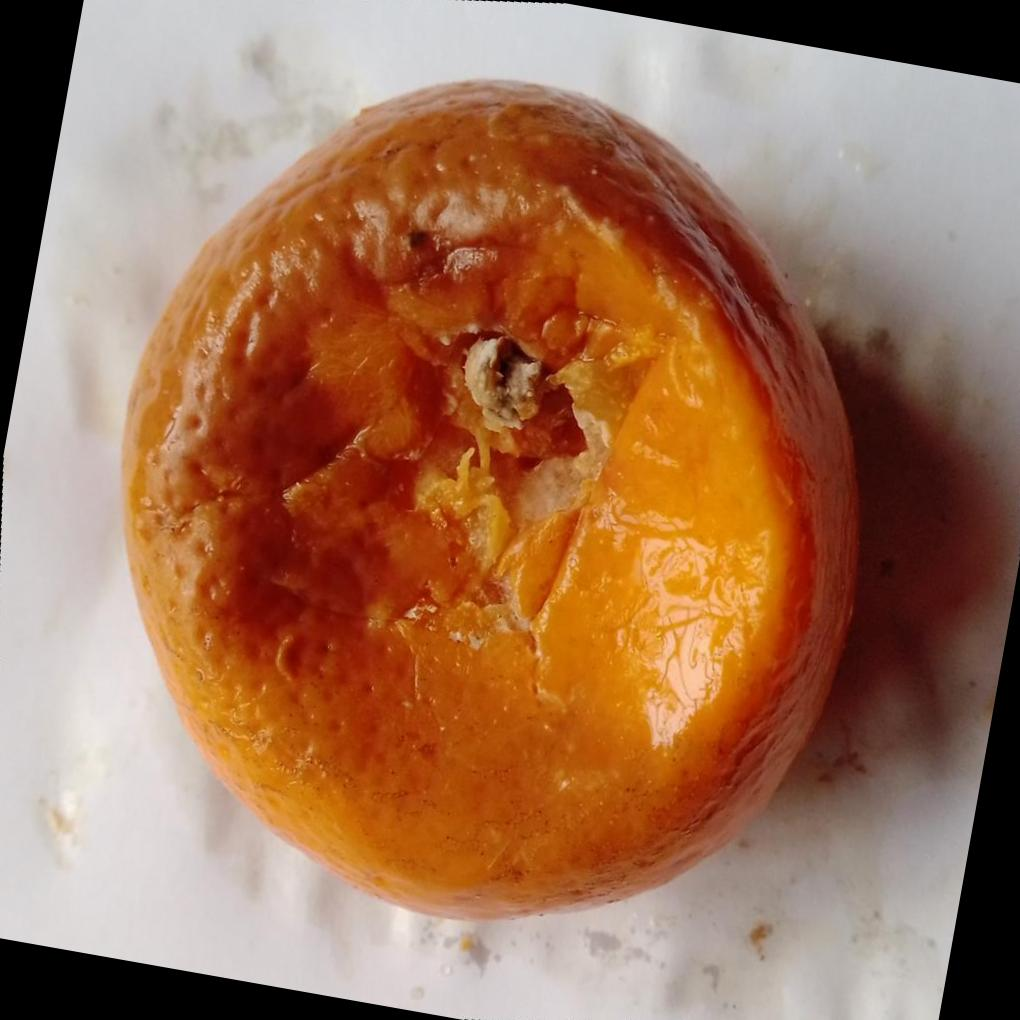FreshOrange: (119, 74, 863, 918)
